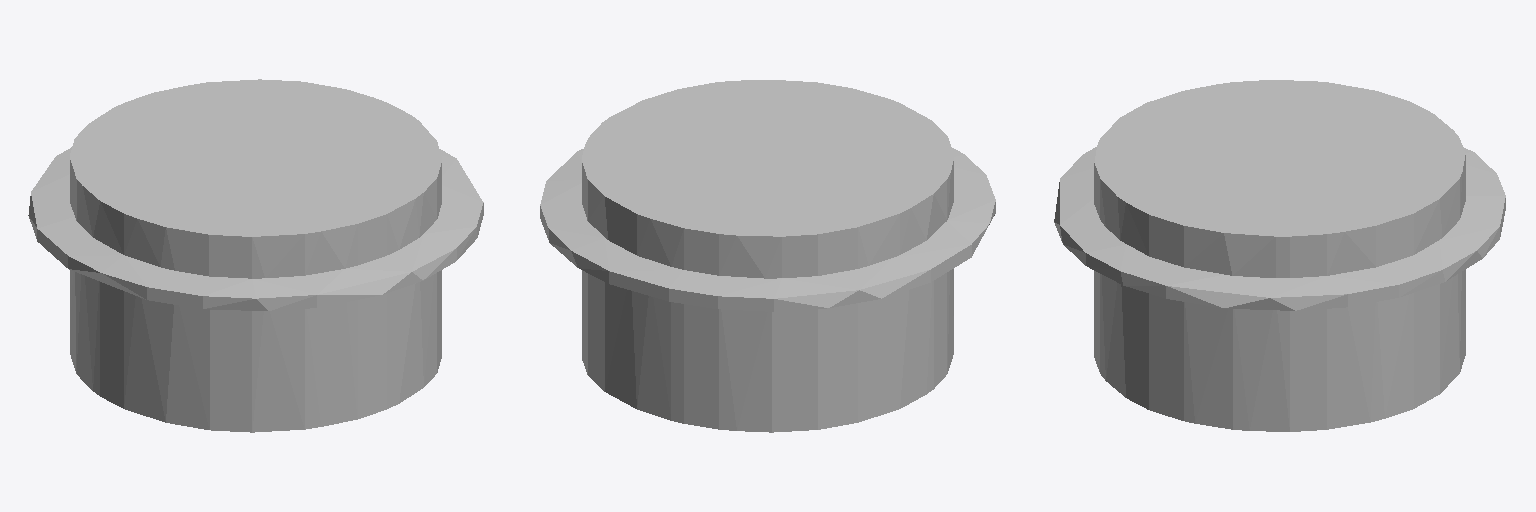
Rendered from original-1_vhacd.obj.
The picture shows the model from 3 angles: view 1: azimuth 30°, elevation 25°; view 2: azimuth 150°, elevation 25°; view 3: azimuth 270°, elevation 25°; orthographic projection.
Visible parts, largest first — view 1: convex_2, convex_0, convex_1; view 2: convex_2, convex_0, convex_1; view 3: convex_2, convex_0, convex_1.
Part boxes in pixels (left/top/right/bottom): convex_2: left=70, top=79, right=441, bottom=278; convex_0: left=70, top=270, right=441, bottom=432; convex_1: left=28, top=147, right=483, bottom=310; convex_2: left=582, top=80, right=953, bottom=278; convex_0: left=582, top=269, right=953, bottom=432; convex_1: left=540, top=148, right=995, bottom=311; convex_2: left=1094, top=80, right=1465, bottom=277; convex_0: left=1094, top=269, right=1465, bottom=431; convex_1: left=1054, top=147, right=1505, bottom=310.
Size of the model in its own units: 0.2982 by 0.1424 by 0.2982.